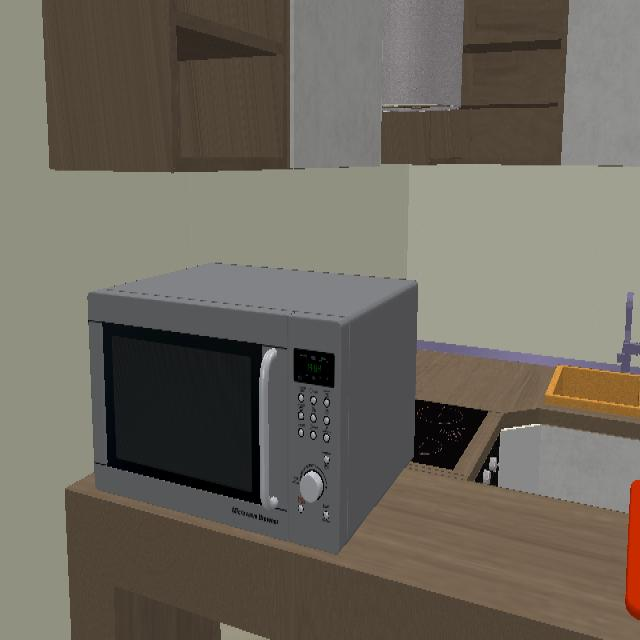countertop: (64, 340, 640, 640)
microwave: (87, 263, 418, 559)
oven: (478, 439, 498, 485)
sink: (545, 365, 640, 415)
stove: (413, 400, 487, 469)
